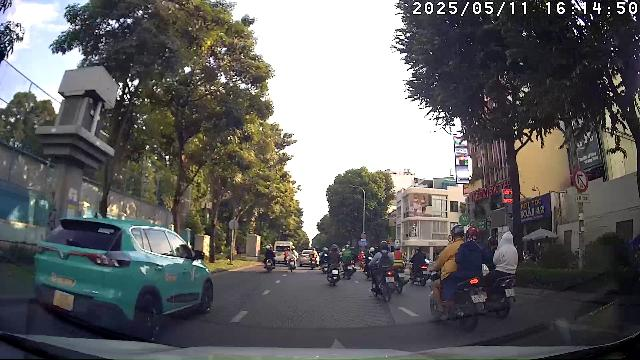103b-cam-oto-re-phai: (573, 168, 589, 192)
